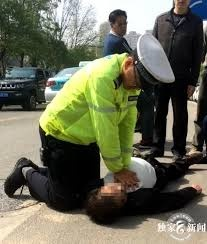falling: (83, 142, 205, 224)
